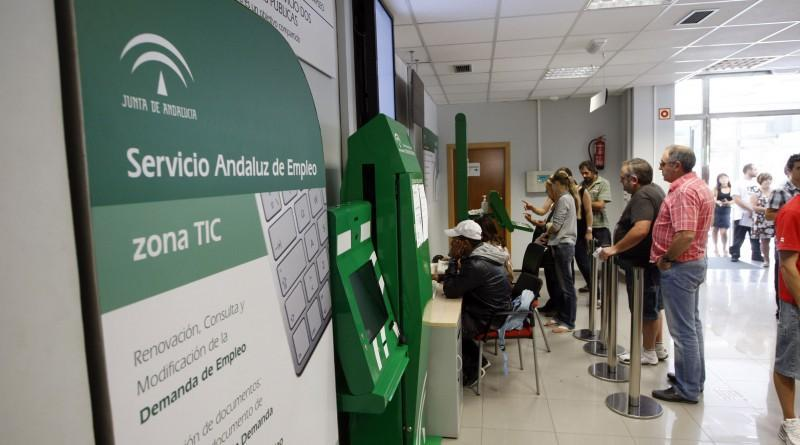person: (642, 134, 711, 300), (604, 153, 662, 274)
